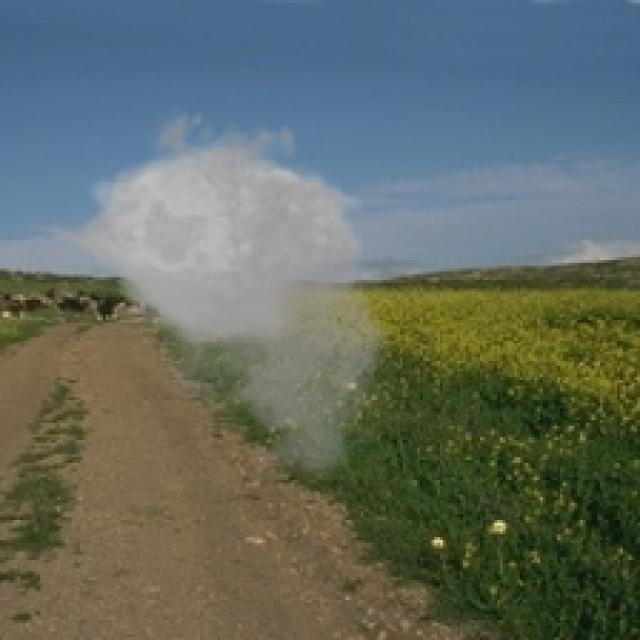Smoke: (28, 100, 403, 480)
